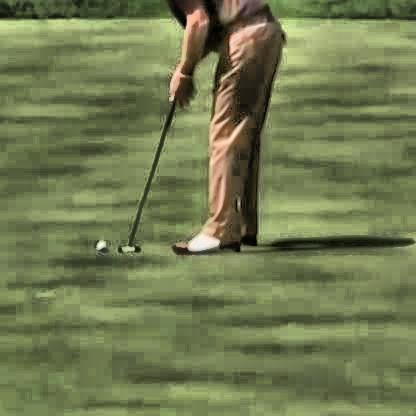golfball: (93, 237, 104, 248)
